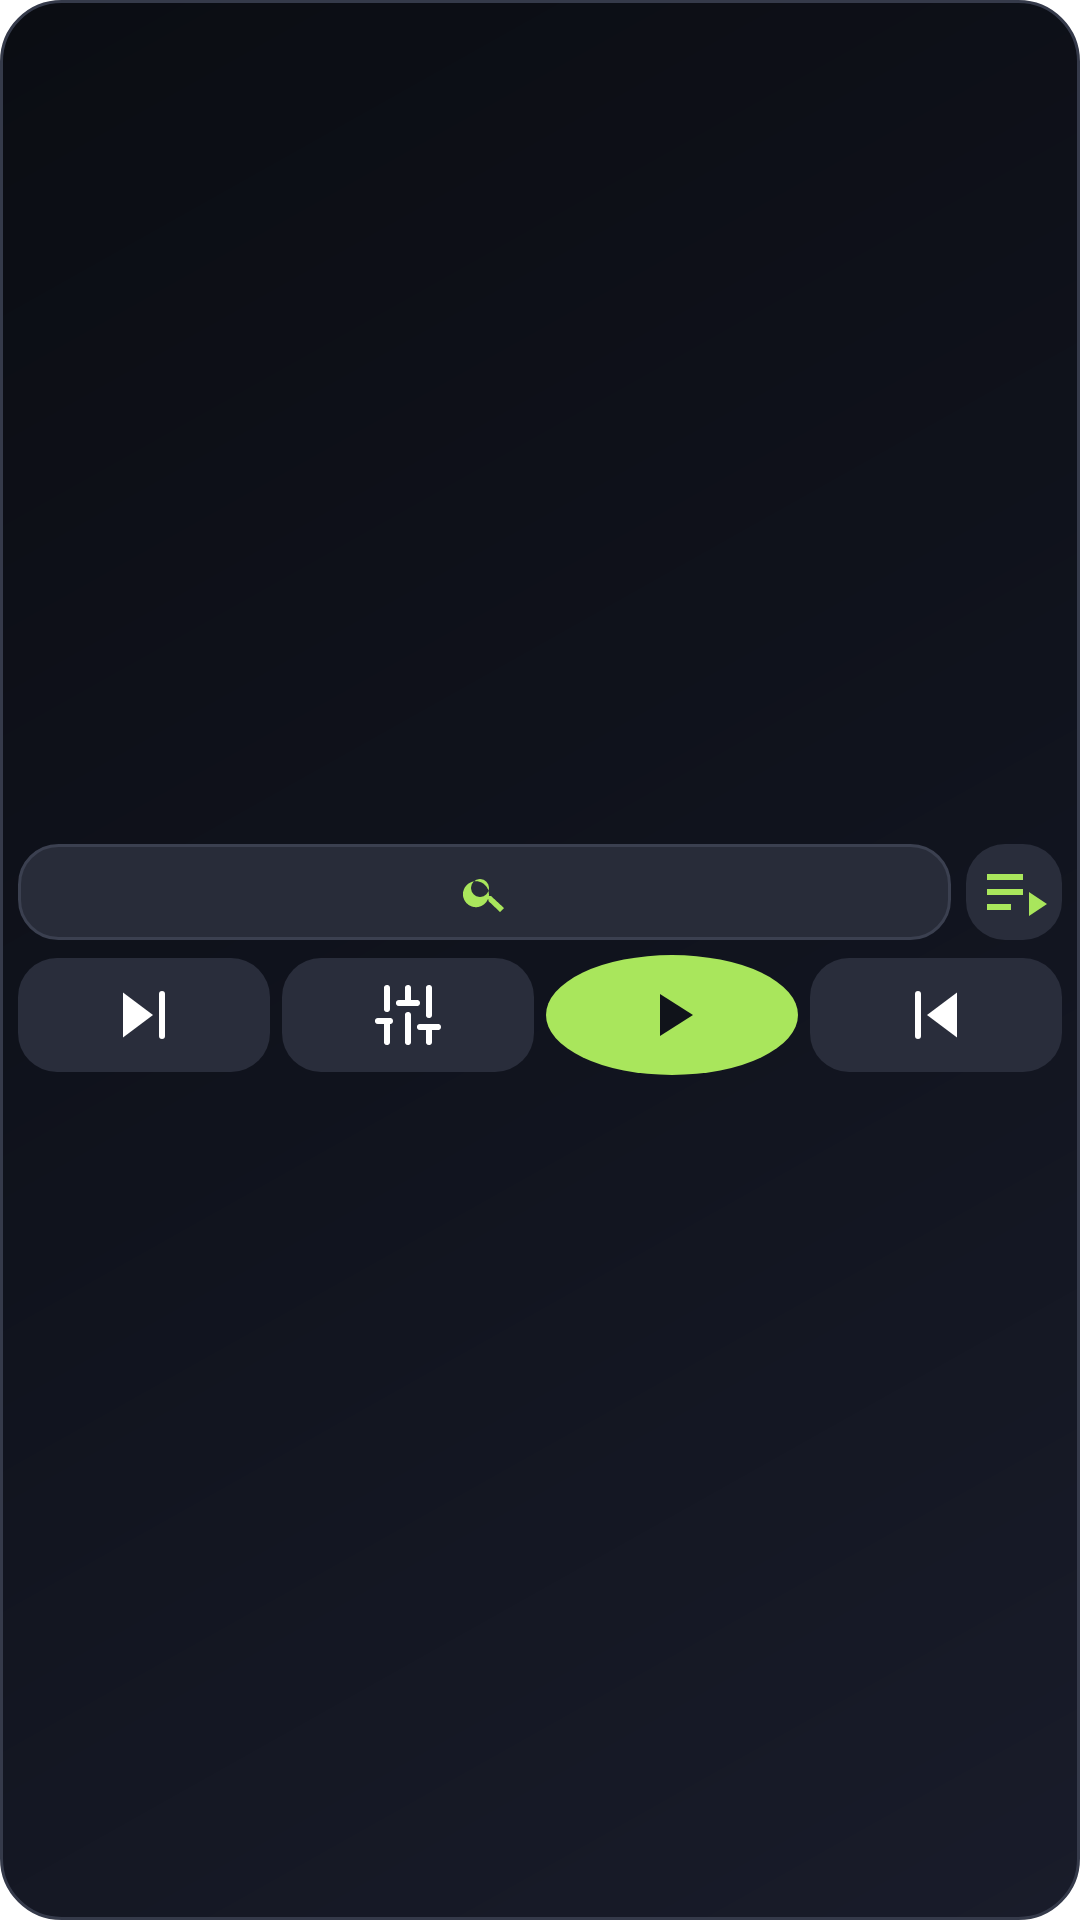

Icon bounding boxes for this 1080 × 1920 phone screenshot, format box(x1, y1, x2, y2):
Equalizer: box(282, 958, 534, 1072)
Open playlists: box(966, 844, 1062, 940)
Play / Pause: box(546, 955, 798, 1075)
Search HashPlayer: box(463, 879, 504, 912)
